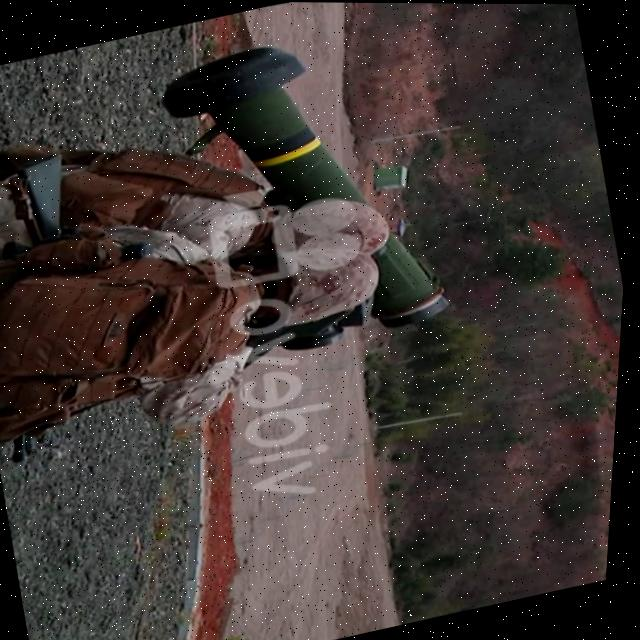rocket: (136, 10, 477, 367)
